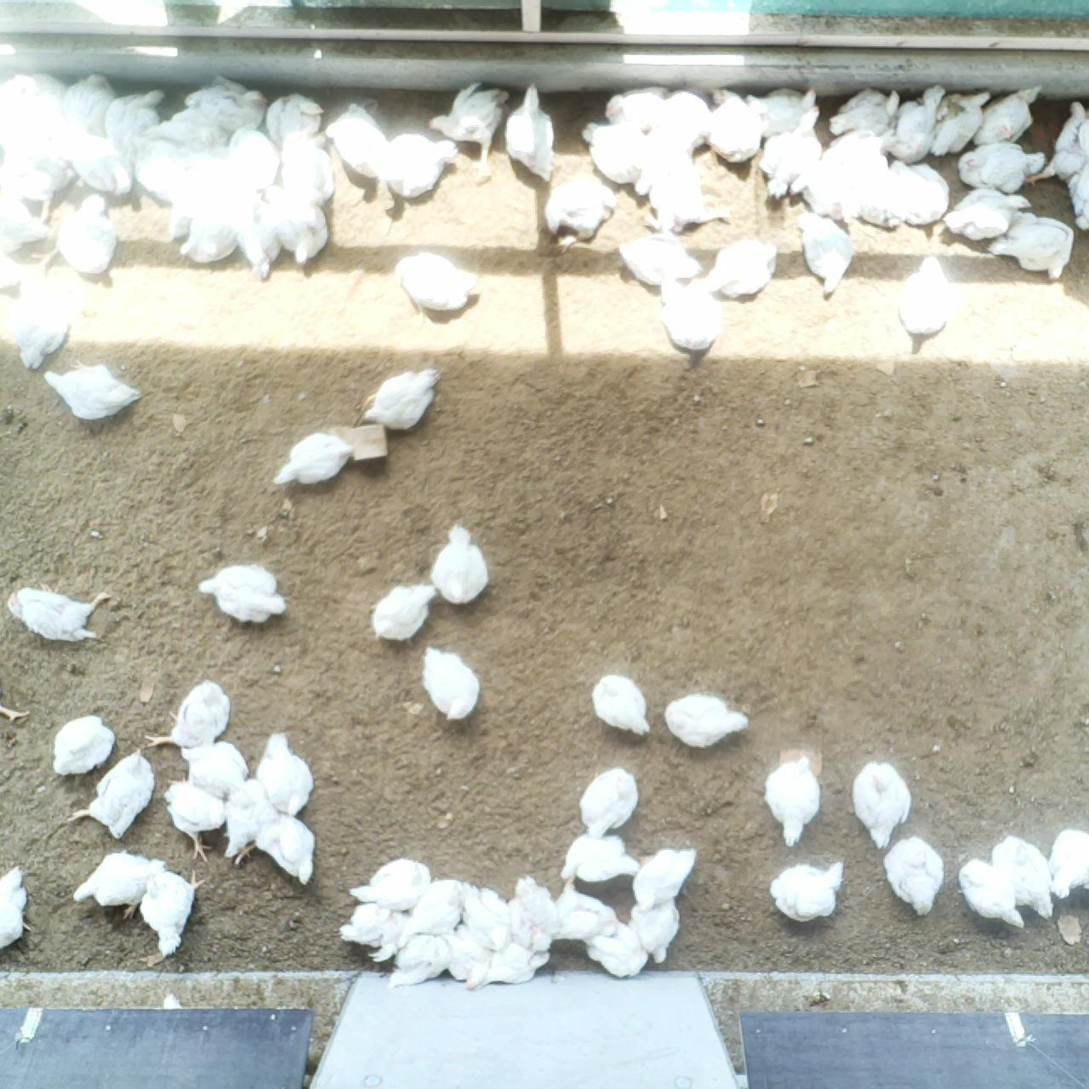chicken: (67, 745, 157, 843), (428, 80, 509, 183), (29, 194, 119, 275), (141, 676, 234, 753), (71, 847, 166, 921), (6, 580, 114, 645), (41, 359, 147, 425), (757, 105, 827, 202), (987, 830, 1058, 925), (232, 811, 317, 888), (846, 757, 916, 850), (393, 249, 483, 321), (10, 269, 73, 371), (989, 208, 1077, 281), (135, 866, 204, 958), (1019, 98, 1089, 188), (761, 754, 824, 852), (195, 561, 288, 626), (256, 729, 321, 820), (766, 856, 849, 927), (502, 80, 556, 186), (955, 855, 1029, 932), (793, 208, 857, 297), (59, 125, 137, 198), (643, 165, 729, 230), (163, 776, 227, 863), (661, 690, 752, 751), (617, 225, 705, 288), (395, 877, 473, 948), (379, 131, 458, 201), (542, 172, 617, 245), (229, 184, 284, 283), (181, 72, 269, 133), (325, 102, 391, 183), (886, 83, 950, 165), (347, 856, 433, 917), (657, 276, 723, 355), (361, 366, 441, 431), (956, 140, 1047, 197), (267, 184, 329, 267), (268, 432, 356, 490), (893, 252, 953, 337), (704, 84, 766, 164), (220, 776, 277, 863), (430, 524, 491, 605), (420, 645, 484, 722), (577, 764, 641, 840), (551, 874, 620, 944), (49, 713, 117, 784), (704, 233, 780, 296), (631, 844, 700, 912), (632, 128, 697, 200), (972, 83, 1044, 148), (176, 738, 251, 800), (336, 899, 406, 964), (580, 120, 650, 185), (367, 582, 440, 644), (0, 155, 68, 221), (557, 832, 643, 884), (506, 873, 559, 957), (276, 131, 336, 205), (582, 917, 651, 981), (589, 670, 653, 739), (931, 87, 993, 158), (107, 88, 168, 158), (743, 85, 820, 140), (890, 157, 952, 224), (385, 932, 452, 993), (828, 86, 902, 140), (0, 89, 60, 153), (458, 882, 512, 952), (178, 201, 235, 267), (629, 896, 683, 965), (61, 71, 117, 137), (0, 186, 53, 255), (229, 119, 281, 188), (442, 922, 492, 993), (1043, 825, 1089, 901), (480, 941, 551, 989), (602, 85, 670, 135), (143, 108, 230, 147), (846, 167, 898, 232), (264, 89, 325, 144), (656, 89, 711, 150), (787, 152, 855, 199), (174, 145, 229, 202), (135, 142, 189, 197), (0, 864, 34, 951), (830, 128, 889, 169), (1067, 159, 1089, 232)
